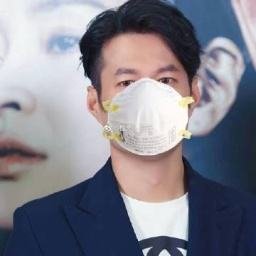correctlyWear: (85, 58, 199, 156)
